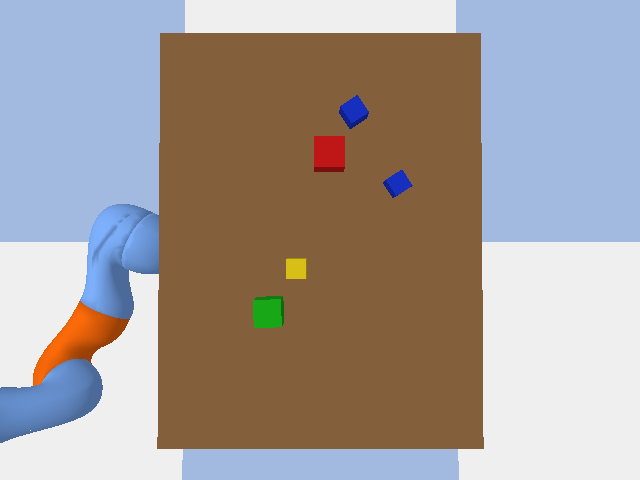blue_obj: (339, 95, 368, 128), (383, 170, 412, 197)
green_obj: (253, 296, 283, 327)
red_obj: (314, 136, 344, 171)
yellow_obj: (286, 258, 306, 278)
